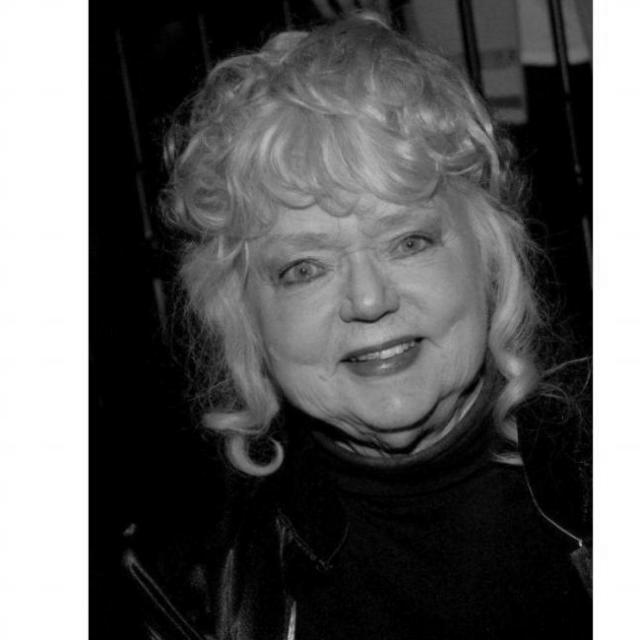real: (232, 104, 496, 442)
